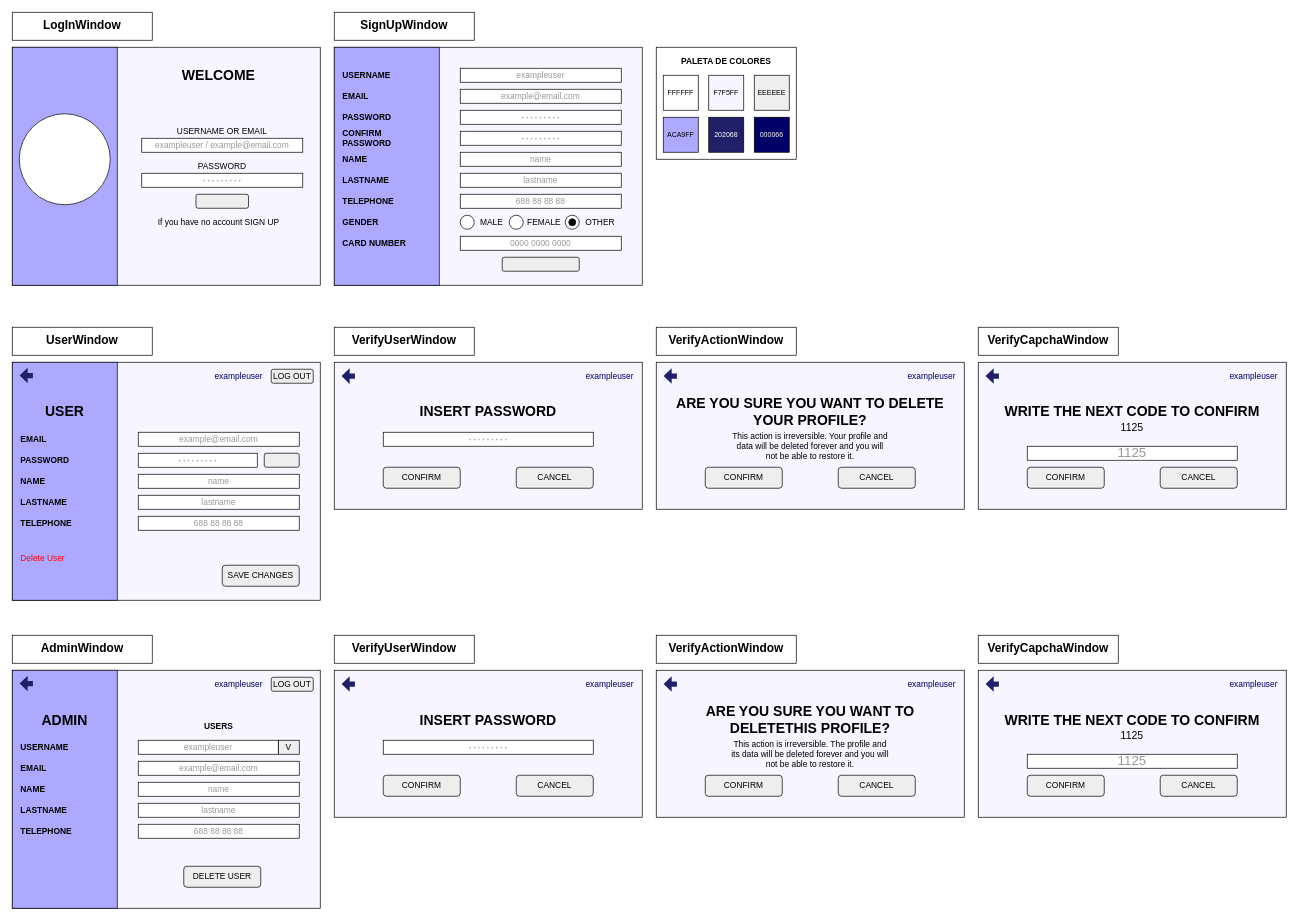
Image size: 1299x921. Some labels were removed from this diagram. Here are the shapes that lost their labels. From the top down, the box of each, then its label:
(19, 113, 110, 205): LOGO
(195, 194, 248, 208): LOG IN
(502, 257, 579, 271): SIGN UP
(264, 453, 299, 467): CHANGE
